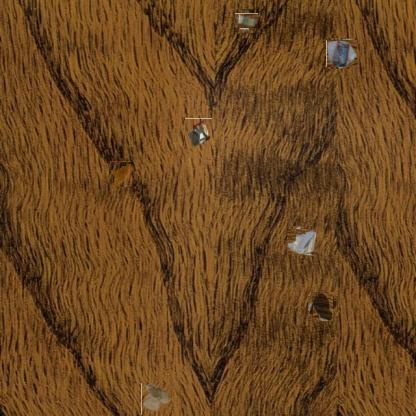dirty: (141, 384, 172, 416), (327, 39, 357, 68), (184, 118, 212, 149), (288, 227, 316, 255), (237, 11, 256, 31)
liquid: (108, 161, 132, 187), (311, 294, 336, 318)
